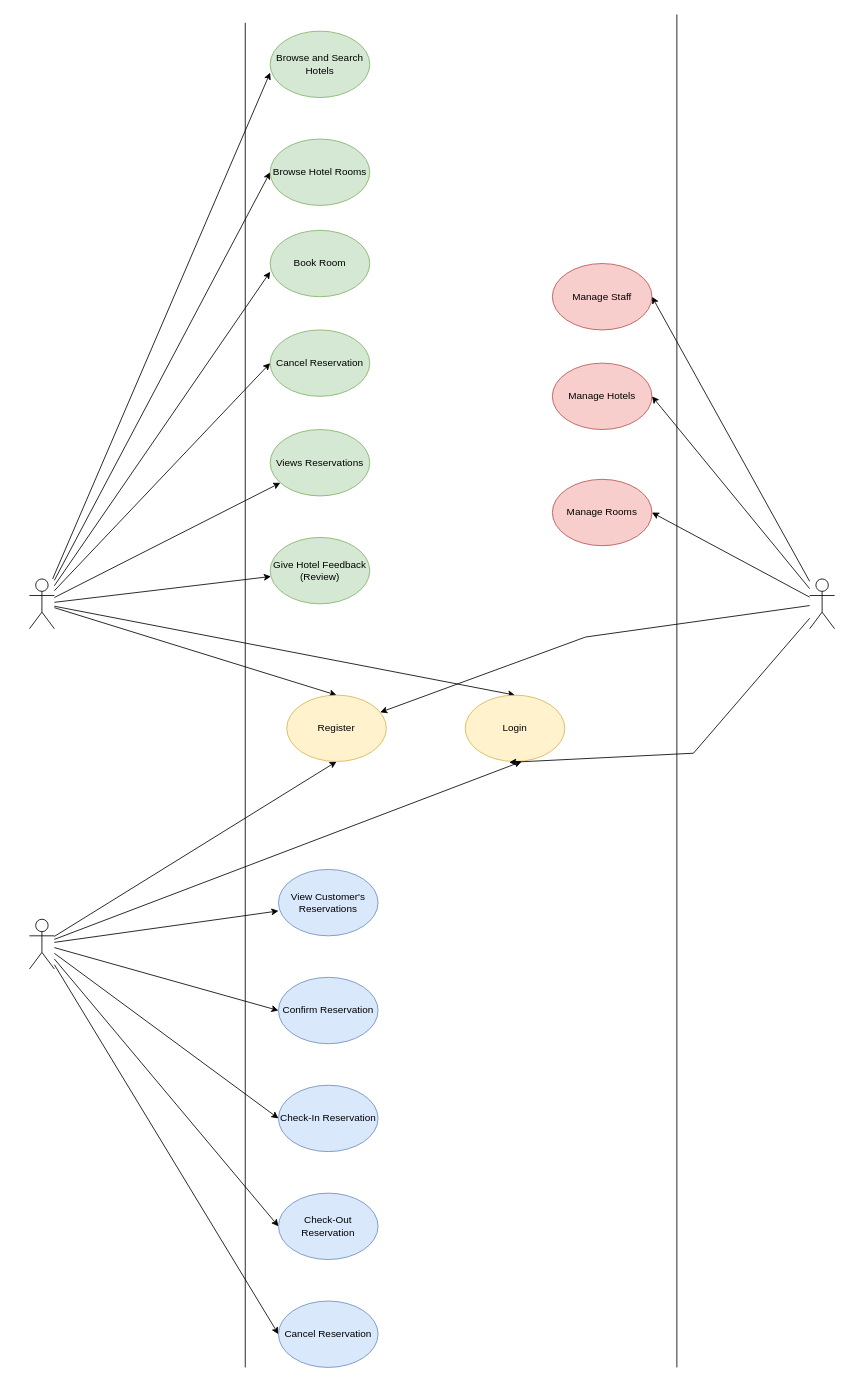
Some shapes in this 850 by 1383 pixel diagram are drawn without their labels. Each missing label, with the box of its shape:
Admin: (809, 578, 835, 629)
Customer: (29, 578, 54, 629)
Receptionist: (29, 918, 54, 969)
